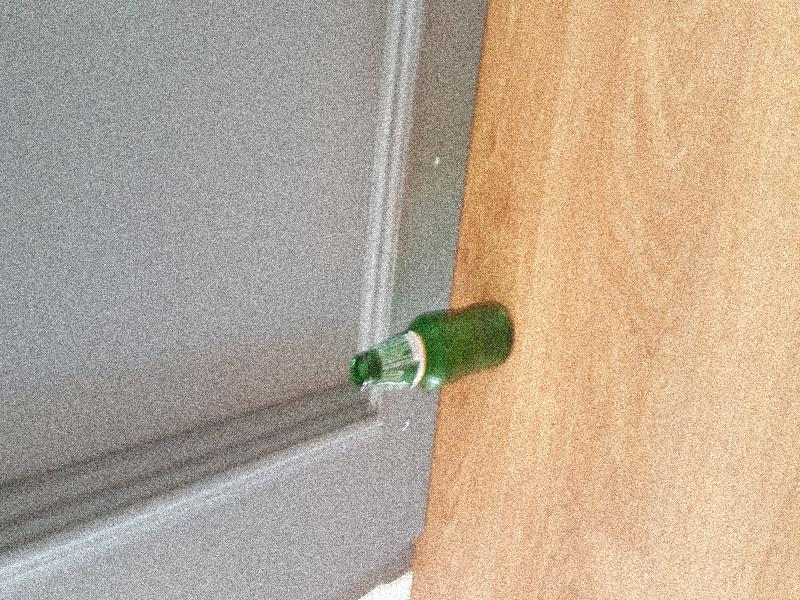Beer: (352, 303, 513, 387)
